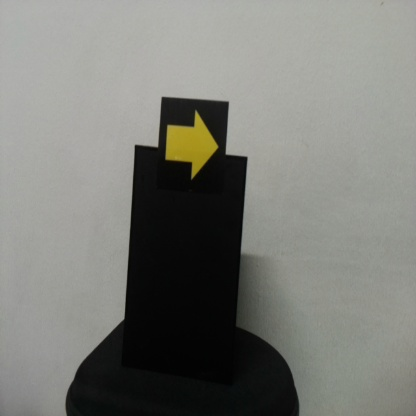id_3: (160, 98, 226, 188)
